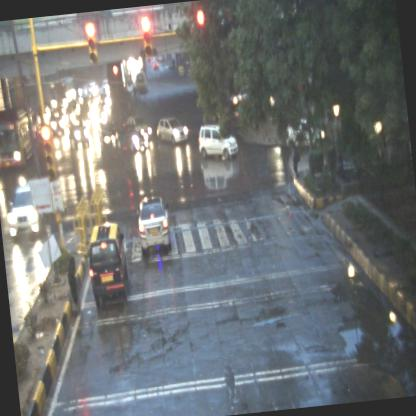bus: (0, 101, 43, 174), (48, 74, 76, 112)
car: (84, 218, 132, 308), (134, 194, 173, 256), (5, 180, 44, 240), (197, 122, 238, 160), (153, 116, 190, 146), (126, 114, 152, 140)
